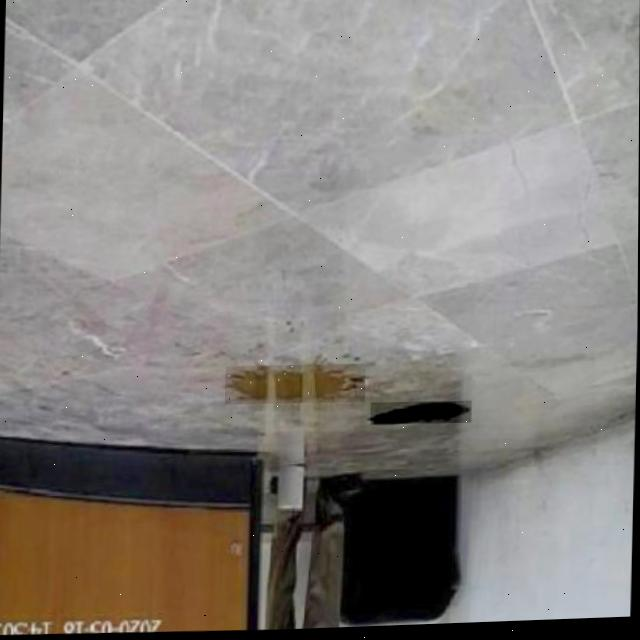spillage: (226, 367, 365, 404), (371, 405, 470, 427)
